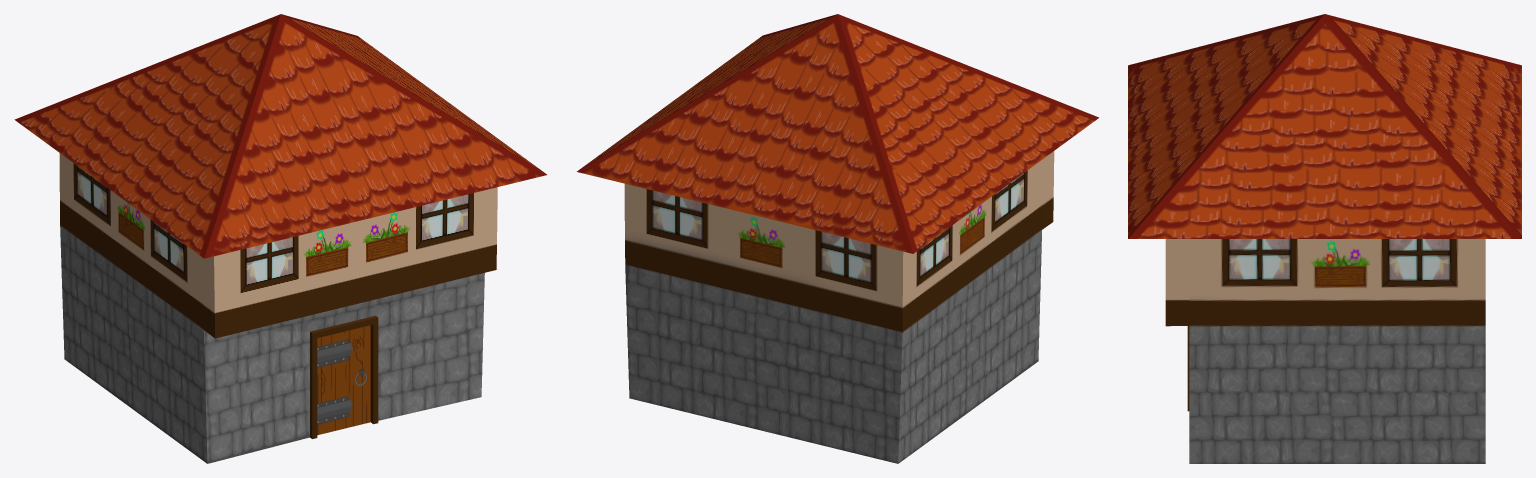
File: LrgHouse.FBX
The picture shows the model from 3 angles, left to right: view 1: azimuth 30°, elevation 25°; view 2: azimuth 150°, elevation 25°; view 3: azimuth 270°, elevation 25°; orthographic projection. The views are drawn at different scales.
Parts seen in each view (by area): view 1: houseBase001, HousseRoof001; view 2: houseBase001, HousseRoof001; view 3: HousseRoof001, houseBase001.
Boxes of the visible parts, left/top/right/bottom form: houseBase001: left=59, top=153, right=497, bottom=463; HousseRoof001: left=14, top=14, right=546, bottom=258; houseBase001: left=624, top=151, right=1054, bottom=463; HousseRoof001: left=577, top=14, right=1098, bottom=253; HousseRoof001: left=1128, top=14, right=1521, bottom=238; houseBase001: left=1165, top=239, right=1485, bottom=463.
Bounding box in the file's own units: 289 × 277 × 296.
Materials: 1 (1 with a texture image).
